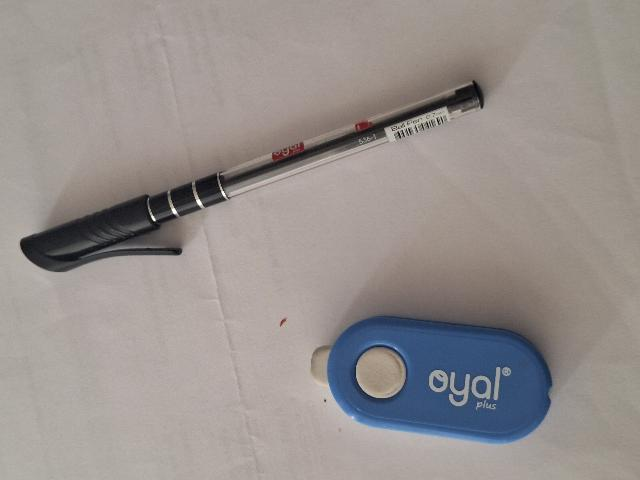writing_tool: (17, 75, 484, 275)
